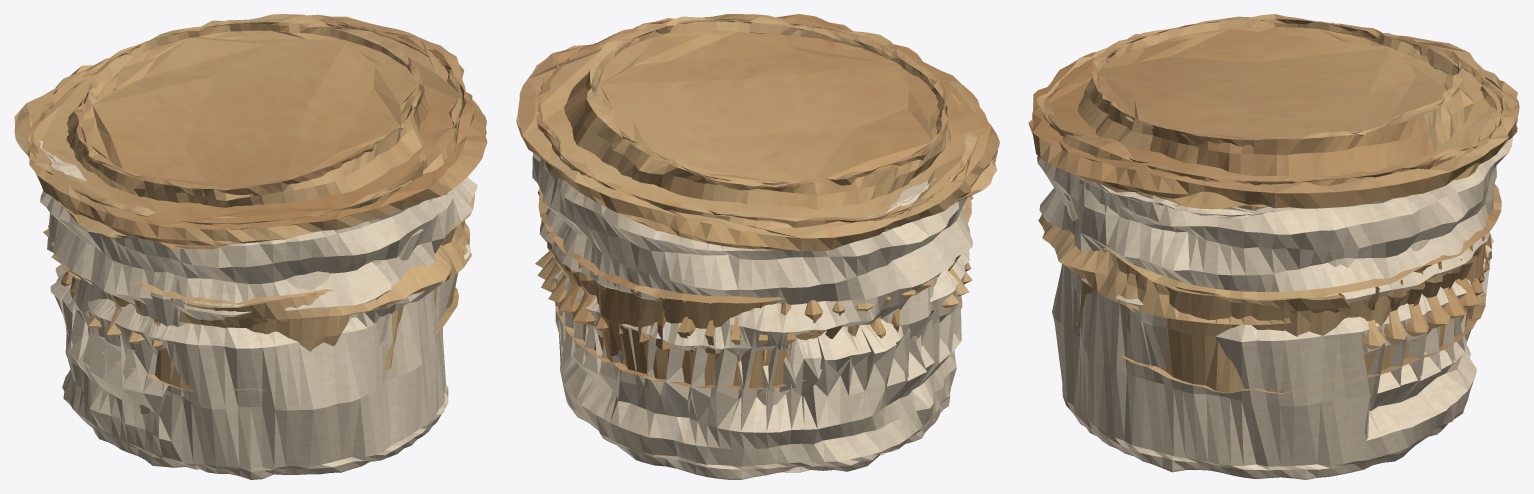
The model's file is crush_medium_1.obj.
3 renders of one model, left to right at view 1: azimuth 30°, elevation 25°; view 2: azimuth 150°, elevation 25°; view 3: azimuth 270°, elevation 25°, orthographic. The views are drawn at different scales.
Visible parts, largest first — view 1: model; view 2: model; view 3: model.
Part boxes in pixels (x1,y1,x2,y2): model: [14, 14, 487, 479]; model: [516, 14, 999, 479]; model: [1028, 14, 1519, 479].
Bounding box in the file's own units: 0.0681 × 0.0521 × 0.0686.
1 material, 1 textured.
